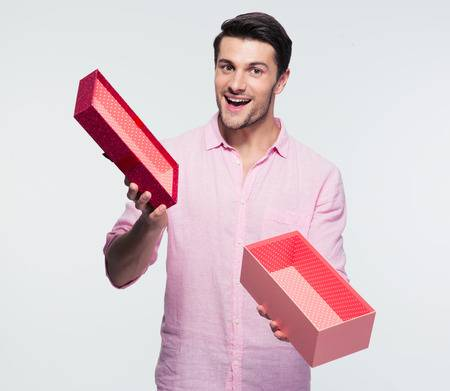S_shirt: (103, 112, 346, 391)
